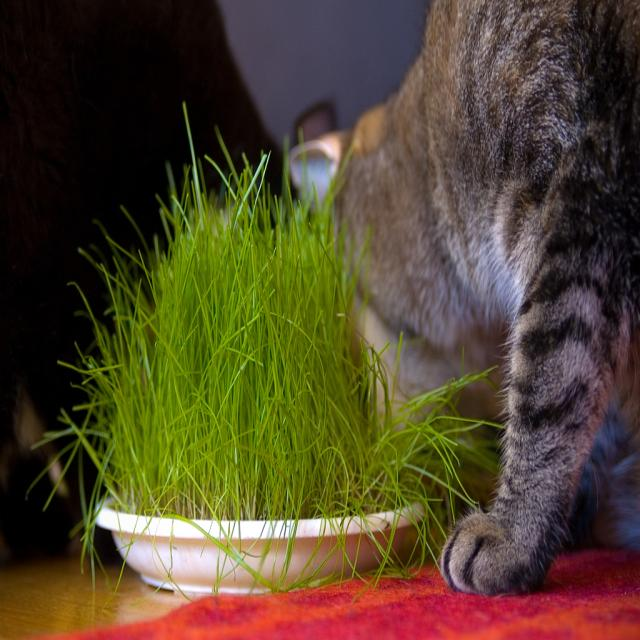Cat: (290, 0, 638, 597)
